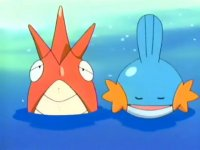mudkip: (99, 13, 199, 121)
